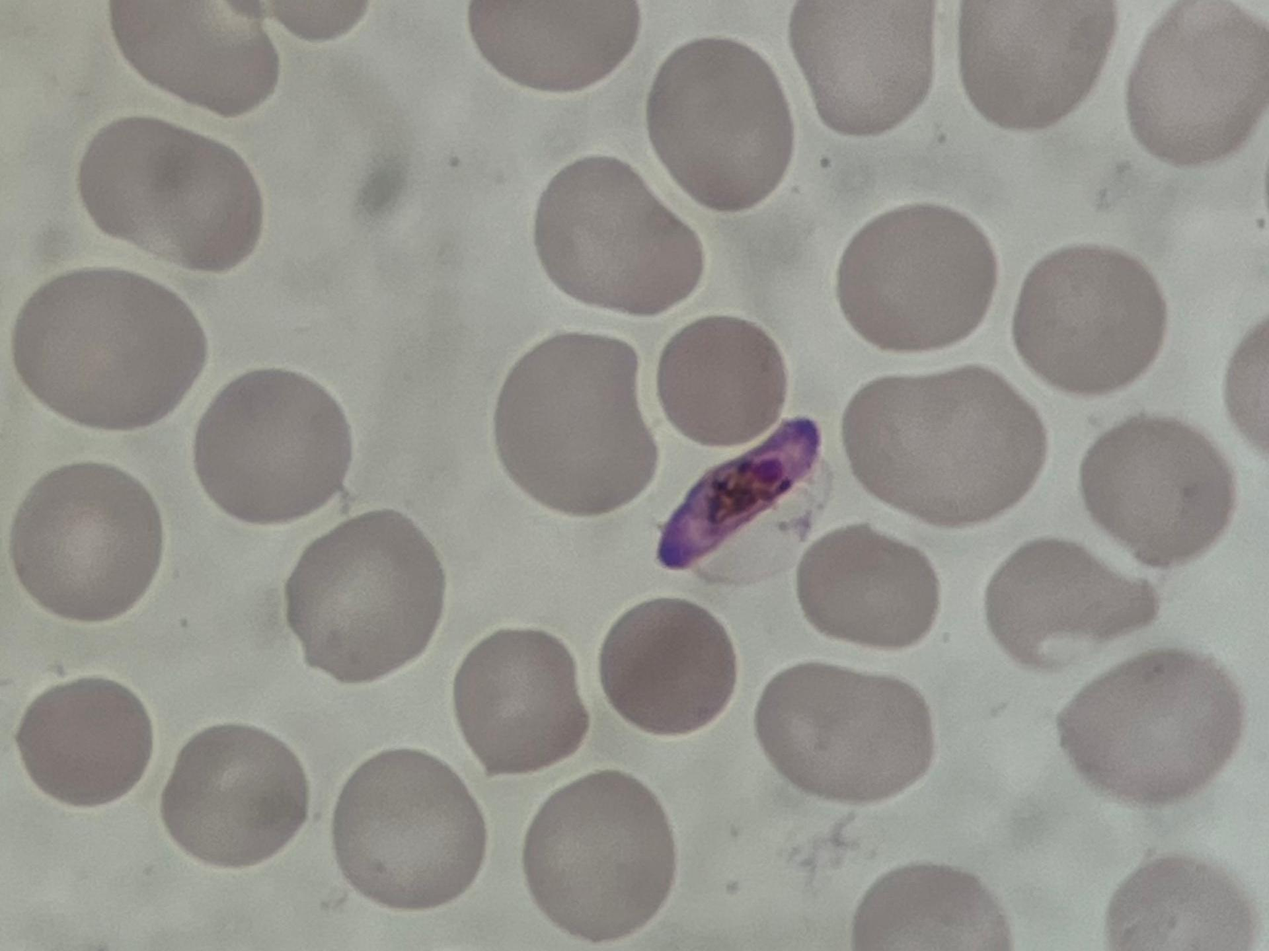Infected: (659, 406, 834, 590)
Uninfected: (489, 327, 657, 522), (842, 366, 1049, 522), (73, 115, 266, 277), (15, 265, 203, 431), (1053, 648, 1248, 800), (535, 151, 711, 312), (518, 767, 673, 941), (654, 36, 803, 214), (758, 659, 937, 803), (282, 514, 438, 678), (839, 195, 1005, 349), (980, 538, 1168, 668), (13, 463, 166, 622), (194, 369, 352, 522), (1016, 239, 1169, 395), (335, 745, 479, 909), (1082, 415, 1232, 564), (165, 721, 313, 871), (449, 626, 593, 778), (966, 0, 1124, 135), (1135, 3, 1269, 157), (793, 525, 941, 655), (599, 598, 737, 734), (789, 0, 930, 131), (13, 679, 156, 808), (657, 309, 790, 442)
